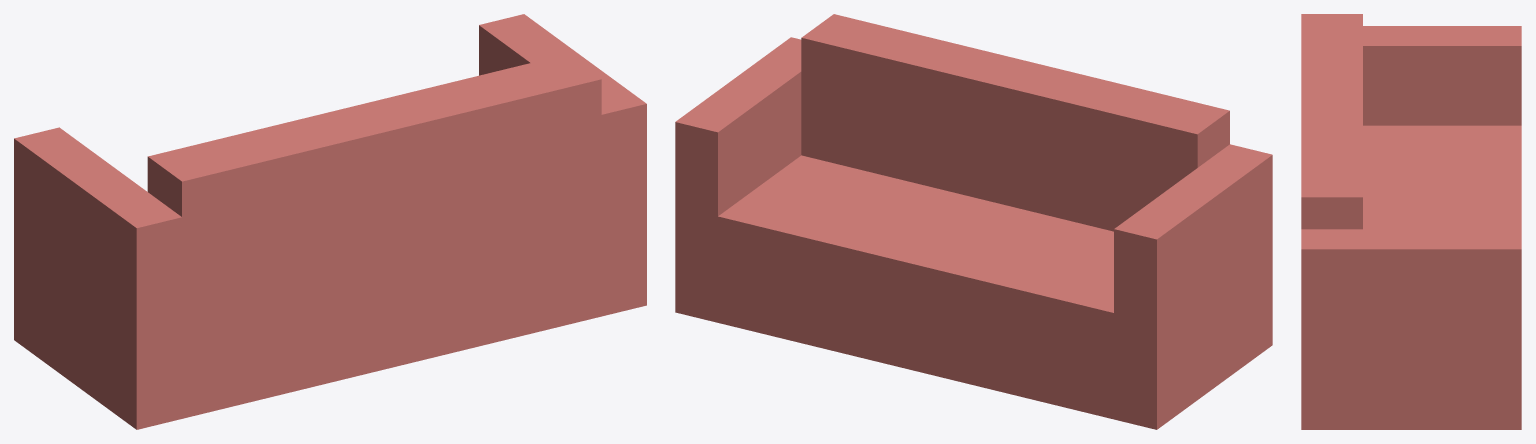
Rendered from sofa.glb.
3 renders of one model, left to right at view 1: azimuth 30°, elevation 25°; view 2: azimuth 150°, elevation 25°; view 3: azimuth 270°, elevation 25°, orthographic. The views are drawn at different scales.
Visible parts, largest first — view 1: Sofa; view 2: Sofa; view 3: Sofa.
Part boxes in pixels (<box>): Sofa: <box>14,14,646,429</box>; Sofa: <box>675,14,1272,429</box>; Sofa: <box>1301,14,1521,429</box>.
Bounding box in the file's own units: 1.8 × 0.8 × 0.75.
